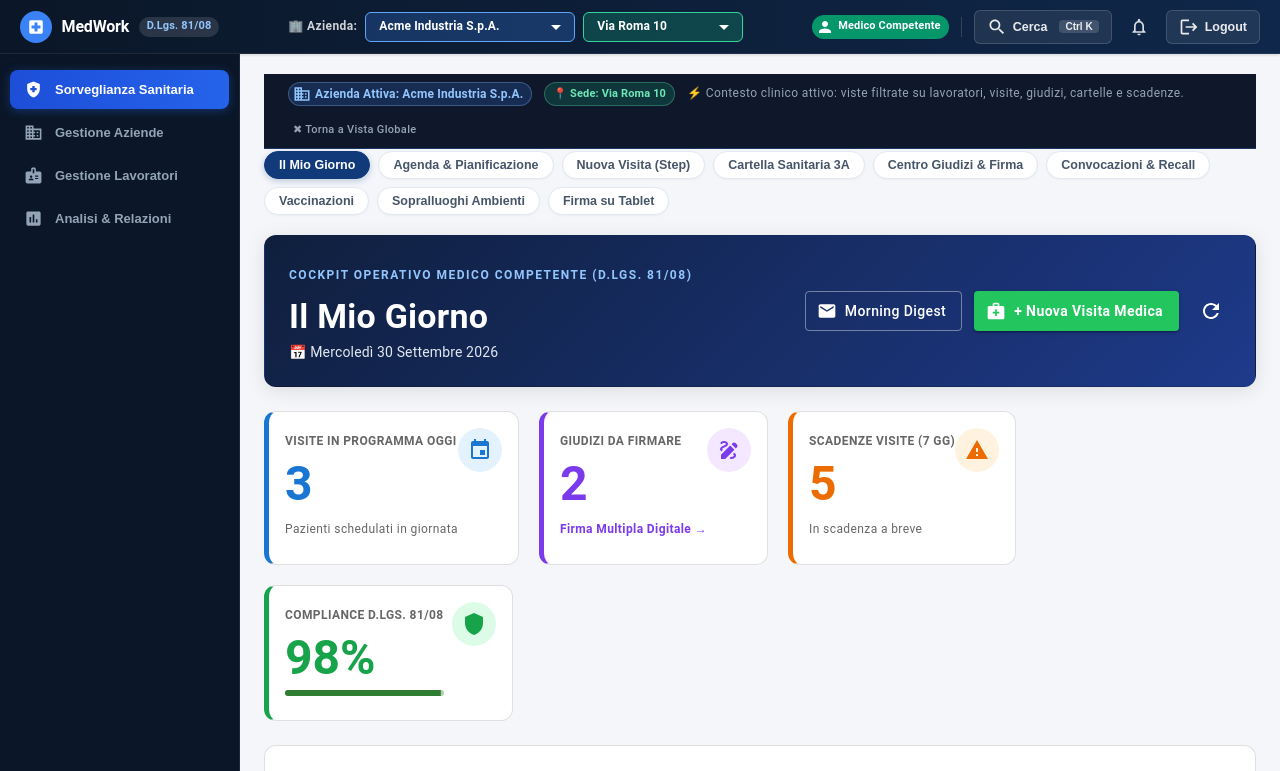
App shell and navigation › shows health surveillance dashboard or allows switching to unified agenda and planning
The width and height of the screenshot is (1280, 771).
Expected: the heading "Il Mio Giorno" is shown, [289,296,488,336]
Click on Agenda & Pianificazione chip
Click the button "Agenda & Pianificazione": {"x": 466, "y": 165} [378,151,554,179]
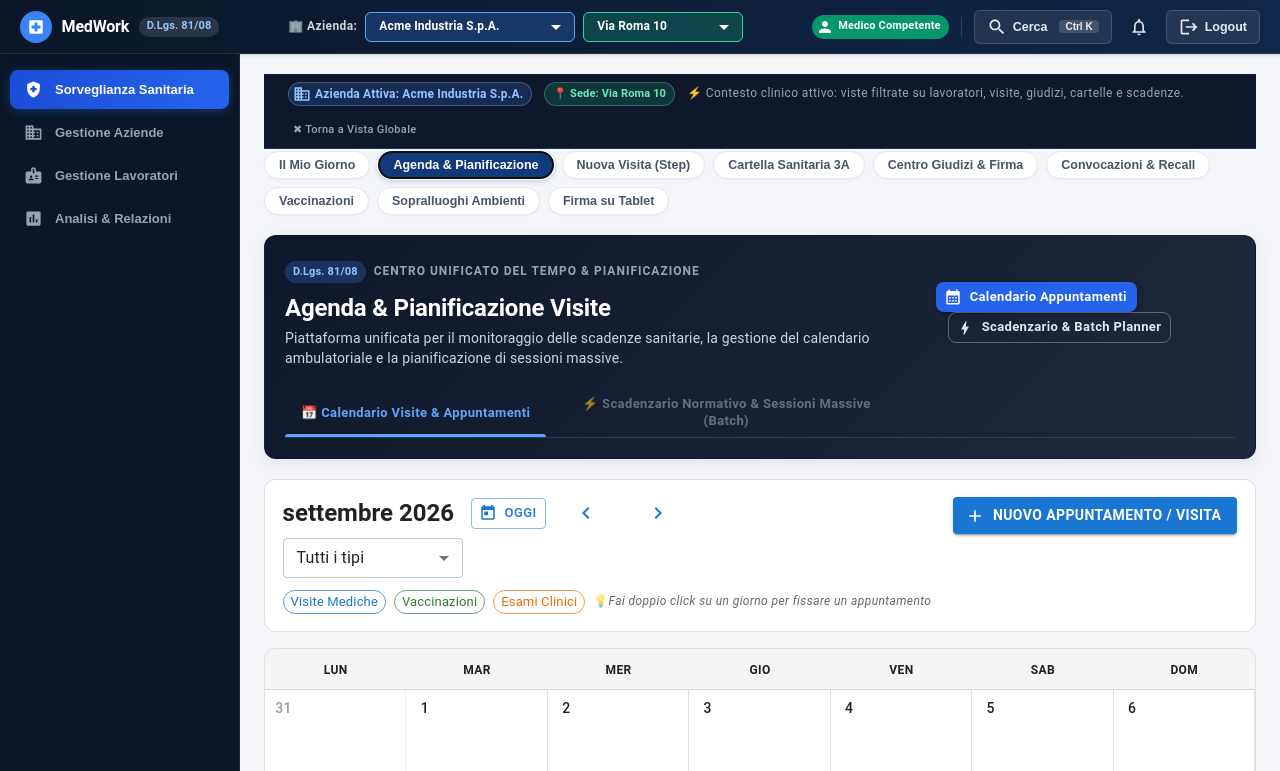
Now the heading "Agenda & Pianificazione Visite" is shown, box [285,294,611,322]
